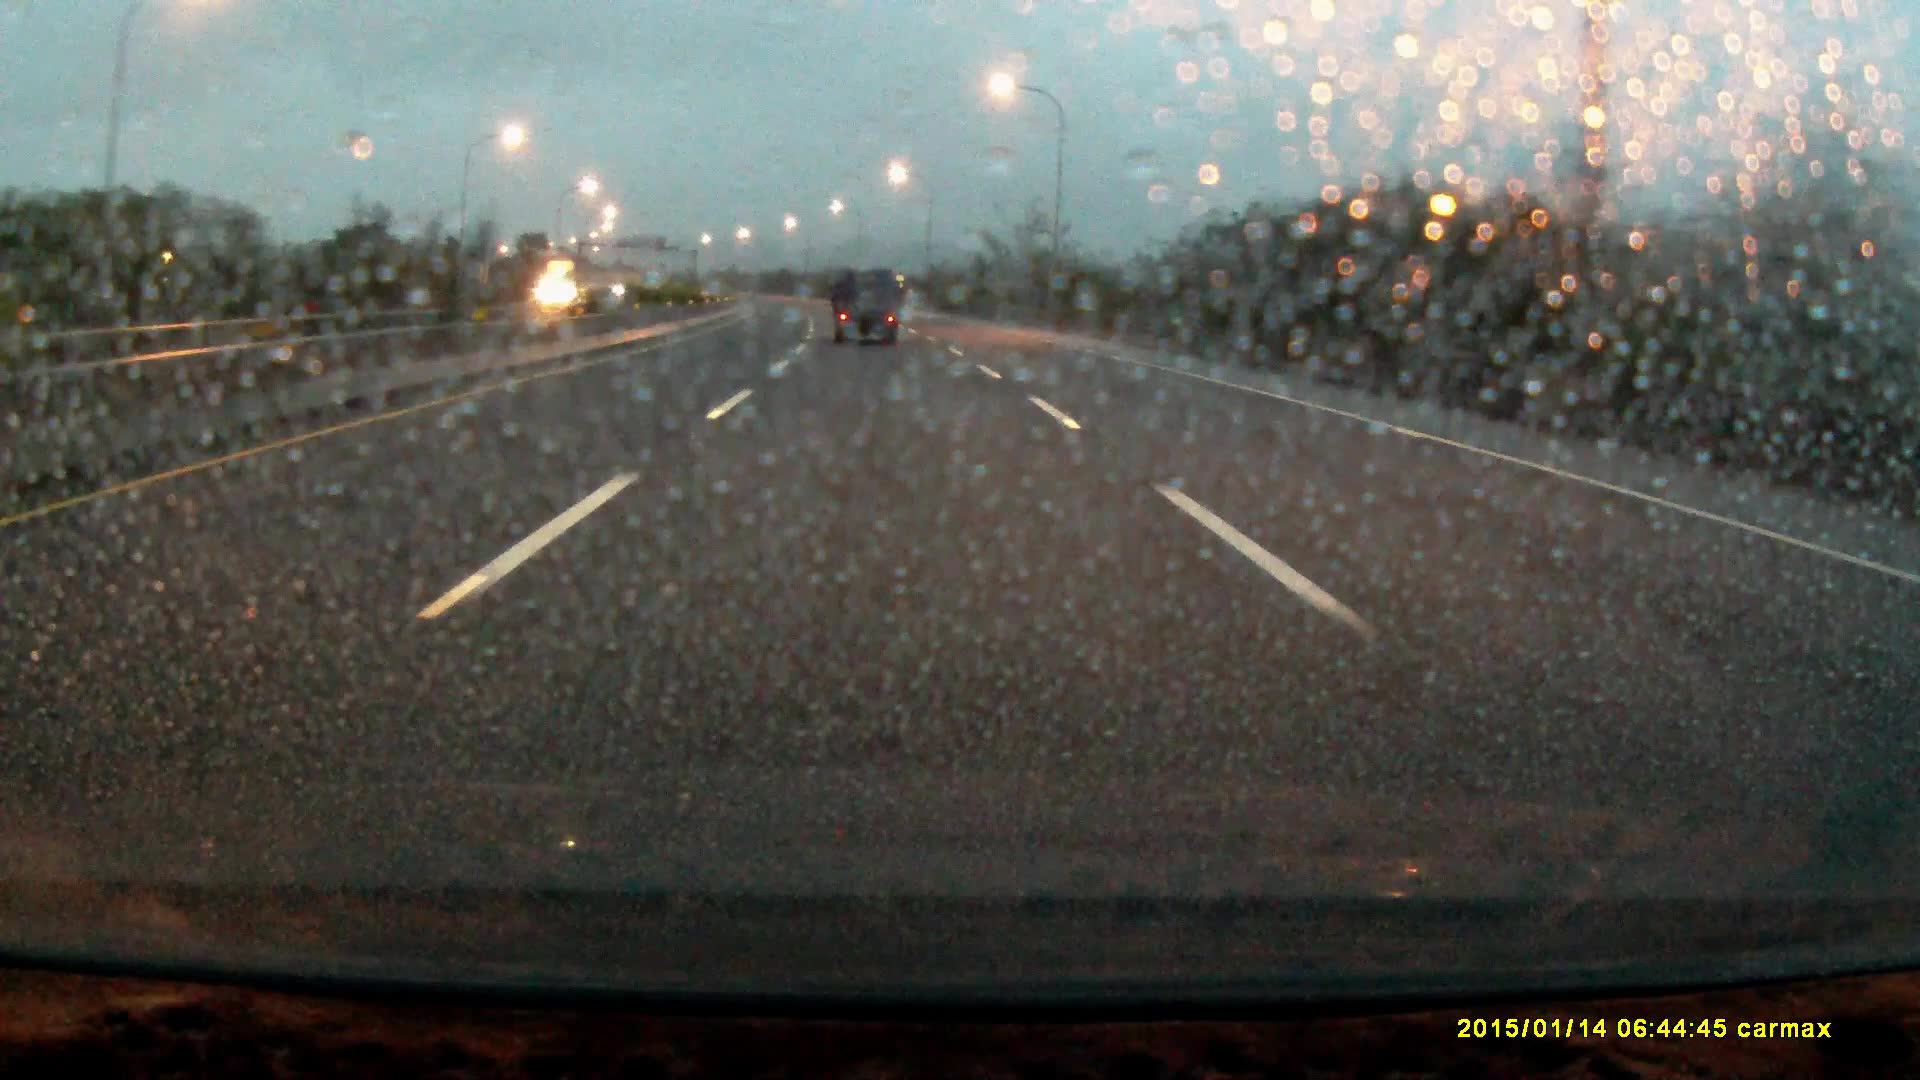vehicle: (833, 272, 903, 352), (542, 262, 617, 323)
